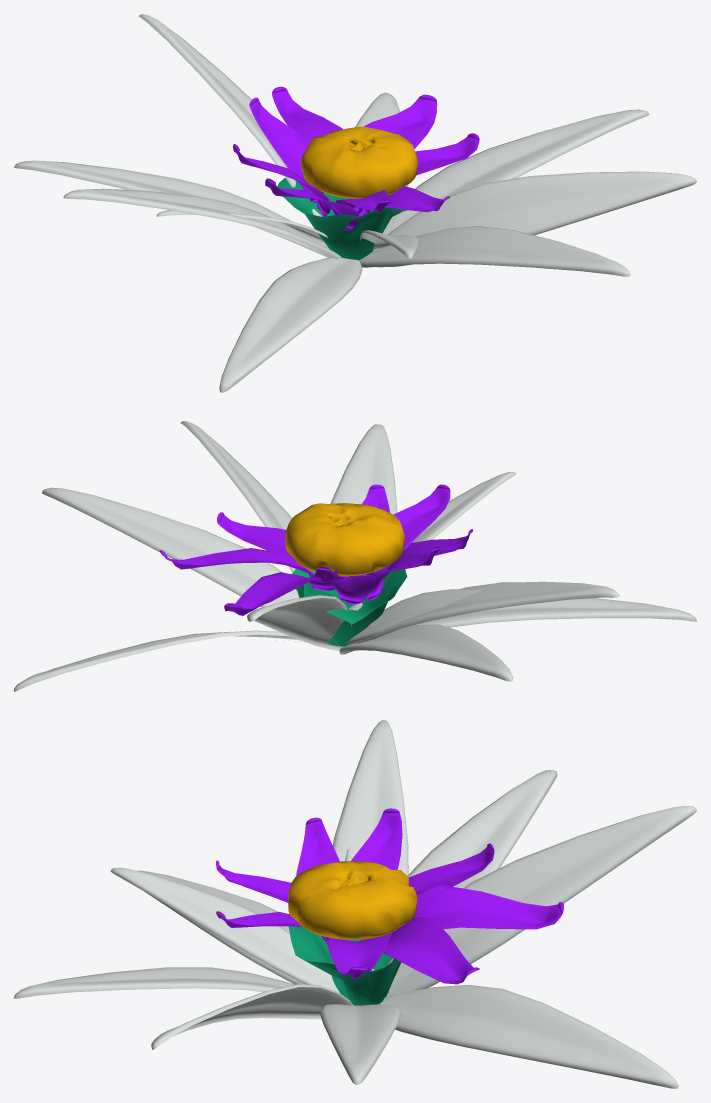
The model's file is GRASS.fbx.
3 views of the same model, one above another, from view 1: azimuth 30°, elevation 25°; view 2: azimuth 150°, elevation 25°; view 3: azimuth 270°, elevation 25° (orthographic). The views are drawn at different scales.
Parts seen in each view (by area): view 1: Leaf.009, Leaf.002, Leaf.001, Sphere, Leaf, Leaf.003, Leaf.008, Cylinder, Leaf.004, petal.006, petal.001, petal.015 (+8 smaller); view 2: Sphere, Leaf, Leaf.003, Leaf.002, Leaf.008, Leaf.004, Leaf.001, Leaf.009, Cylinder, Leaf.005, Leaf.007, petal.015 (+8 smaller); view 3: Leaf.005, Leaf.004, Sphere, Leaf.006, Leaf.008, Leaf.003, Leaf.001, petal.015, Leaf, Leaf.009, petal.001, Cylinder (+7 smaller).
Boxes of the visible parts, x1,y1,x2,y2 form: Leaf.009: (377, 171, 696, 267); Leaf.002: (219, 257, 362, 392); Leaf.001: (359, 226, 630, 276); Sphere: (300, 126, 417, 198); Leaf: (373, 109, 649, 250); Leaf.003: (14, 160, 331, 257); Leaf.008: (63, 188, 340, 258); Cylinder: (277, 178, 407, 260); Leaf.004: (139, 14, 321, 216); petal.006: (249, 97, 323, 202); petal.001: (364, 94, 437, 148); petal.015: (272, 86, 342, 148); Sphere: (285, 503, 404, 576); Leaf: (42, 487, 299, 607); Leaf.003: (339, 624, 513, 681); Leaf.002: (408, 598, 696, 627); Leaf.008: (346, 581, 619, 652); Leaf.004: (247, 595, 351, 650); Leaf.001: (330, 424, 397, 514); Leaf.009: (180, 421, 295, 572); Cylinder: (291, 569, 407, 646); Leaf.005: (14, 630, 301, 691); Leaf.007: (347, 589, 483, 644); petal.015: (224, 571, 339, 615); Leaf.005: (379, 984, 678, 1088); Leaf.004: (385, 806, 696, 996); Sphere: (288, 861, 417, 939); Leaf.006: (110, 867, 340, 993); Leaf.008: (333, 720, 408, 876); Leaf.003: (408, 770, 557, 888); Leaf.001: (14, 967, 294, 998); petal.015: (394, 885, 563, 931); Leaf: (320, 1004, 401, 1084); Leaf.009: (151, 984, 353, 1049); petal.001: (383, 917, 479, 984); Cylinder: (288, 926, 400, 1005).
Bounding box in the file's own units: 1745 × 463 × 1620.
